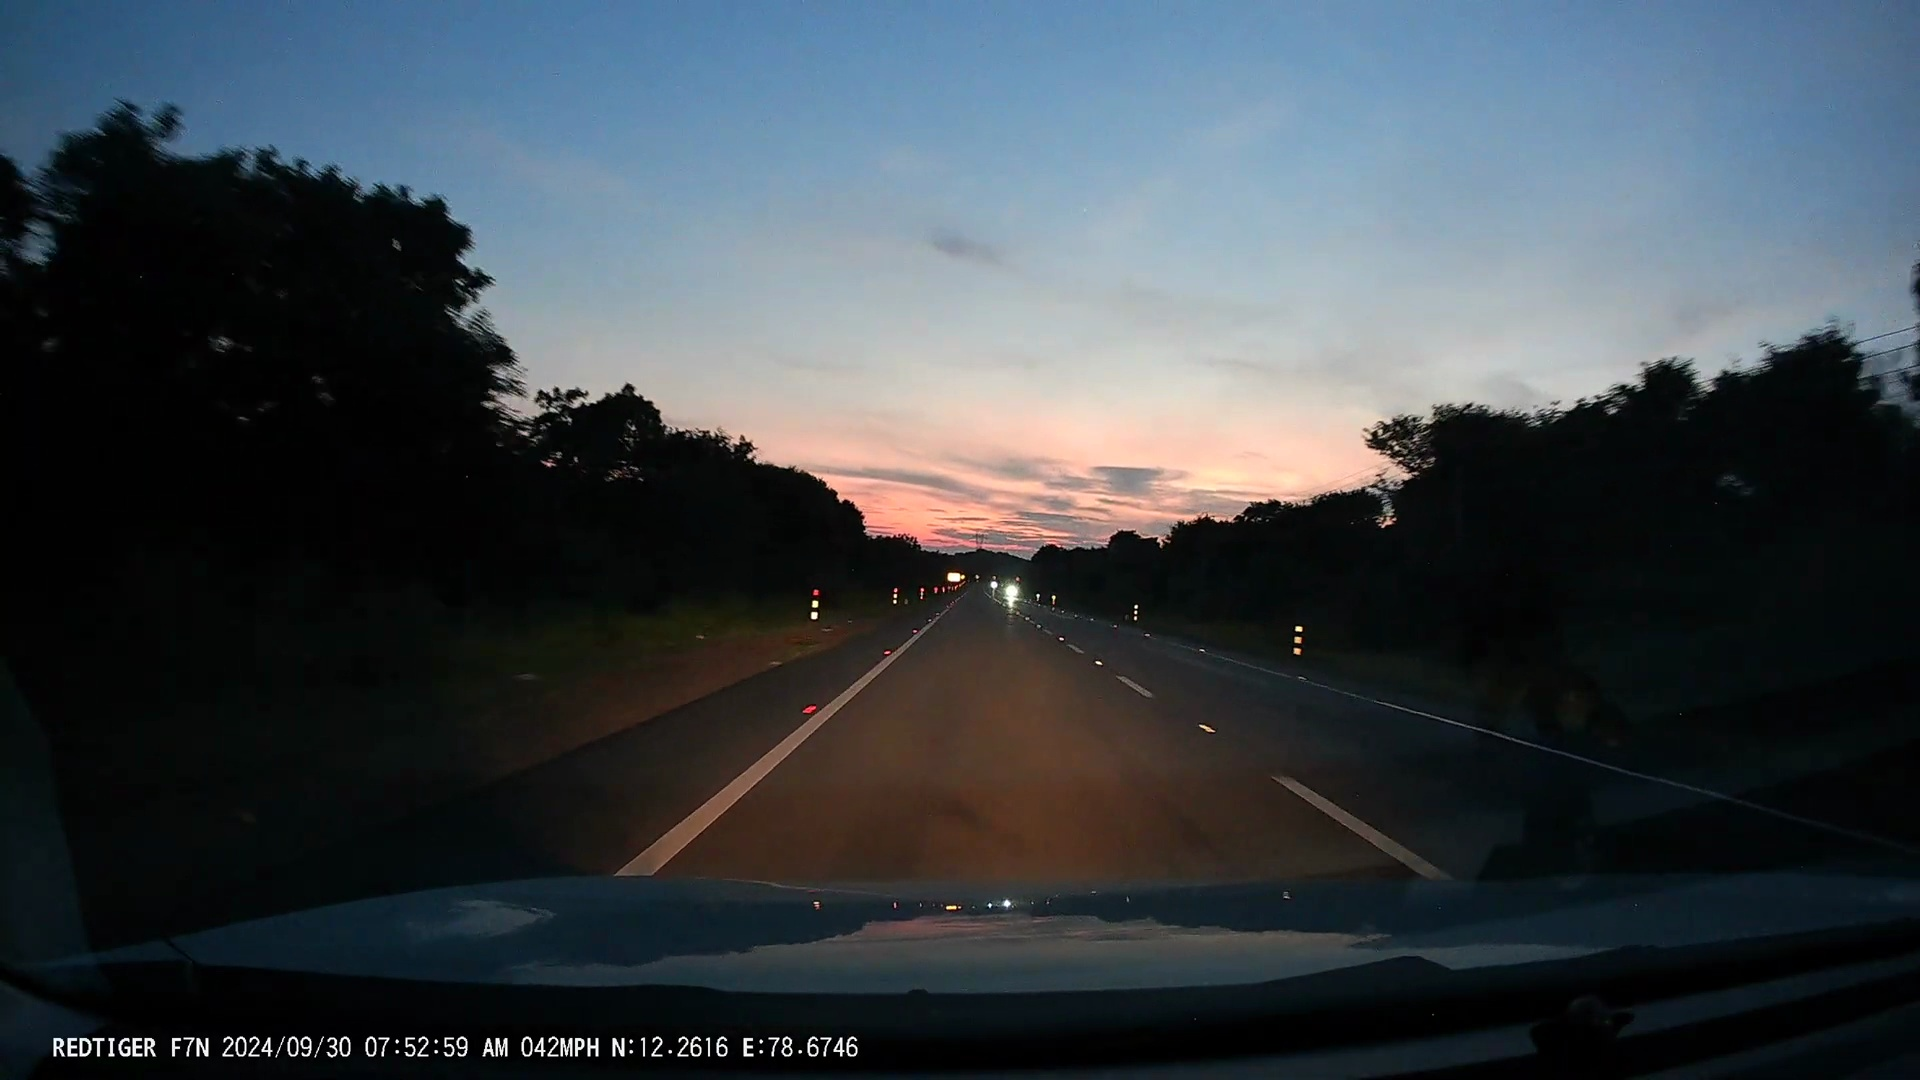headlight: (1004, 585, 1018, 595), (988, 578, 996, 589)
two wheeler: (1001, 578, 1021, 604), (984, 568, 998, 595)
